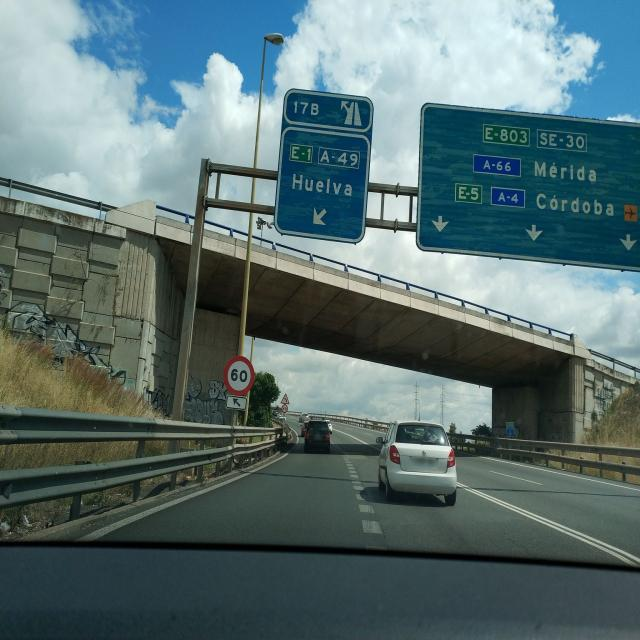car: (377, 419, 457, 505), (304, 420, 332, 454)
